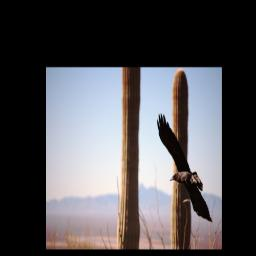Crow: (156, 111, 213, 225)
